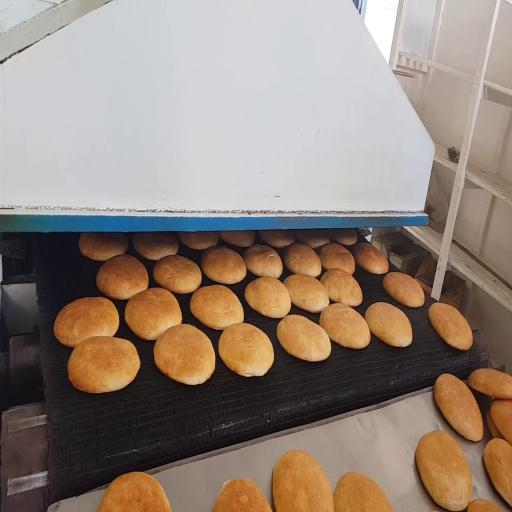bread: (416, 430, 472, 511), (68, 337, 140, 393), (273, 450, 334, 511), (154, 324, 215, 384), (434, 374, 483, 441), (54, 297, 119, 347), (125, 288, 182, 340), (219, 324, 274, 376), (98, 472, 171, 511), (277, 315, 331, 361), (96, 255, 148, 300), (190, 285, 243, 329), (334, 472, 393, 511), (320, 303, 370, 348), (365, 302, 412, 347), (429, 303, 473, 350), (245, 277, 291, 318), (213, 479, 271, 511), (154, 255, 201, 294), (484, 439, 511, 506), (201, 246, 246, 284), (284, 275, 329, 312), (321, 269, 362, 306), (383, 272, 424, 307), (79, 233, 128, 261), (468, 369, 511, 399), (133, 232, 178, 260), (284, 243, 321, 277), (244, 245, 282, 278), (319, 243, 355, 274), (355, 243, 388, 274), (490, 400, 511, 443), (178, 232, 219, 250), (295, 229, 329, 248), (259, 230, 294, 248), (219, 231, 255, 247), (330, 229, 357, 245), (487, 410, 502, 438), (467, 499, 501, 511)
